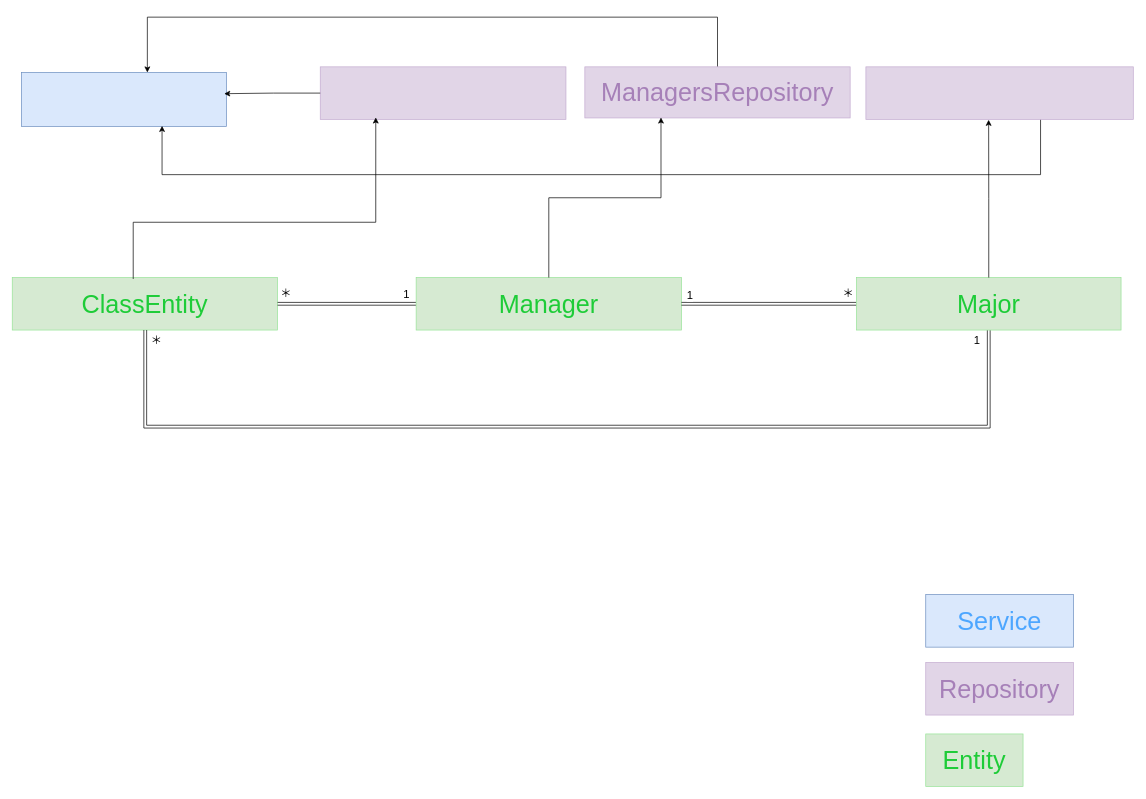
The diagram is 1146 pixels wide and 799 high, and some of its shapes have lost their labels. Each missing label, with the centre of its shape:
ClassesRepository: (443,92)
ClassService: (123,99)
MajorsRepository: (999,92)
